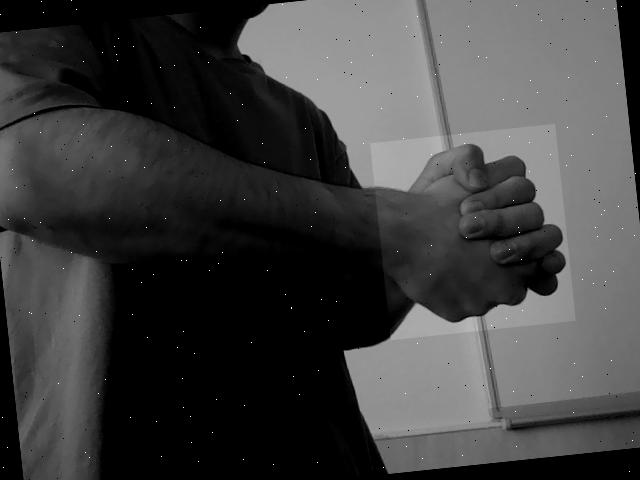friend: (385, 136, 571, 333)
